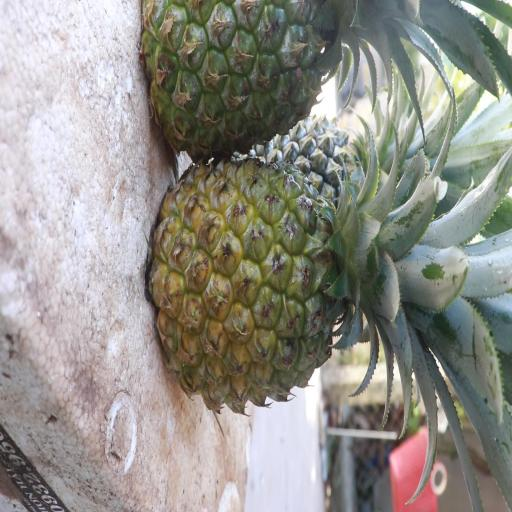------------------------------: (147, 0, 390, 153)
Pineapple - v8 v1: (159, 152, 416, 417)
